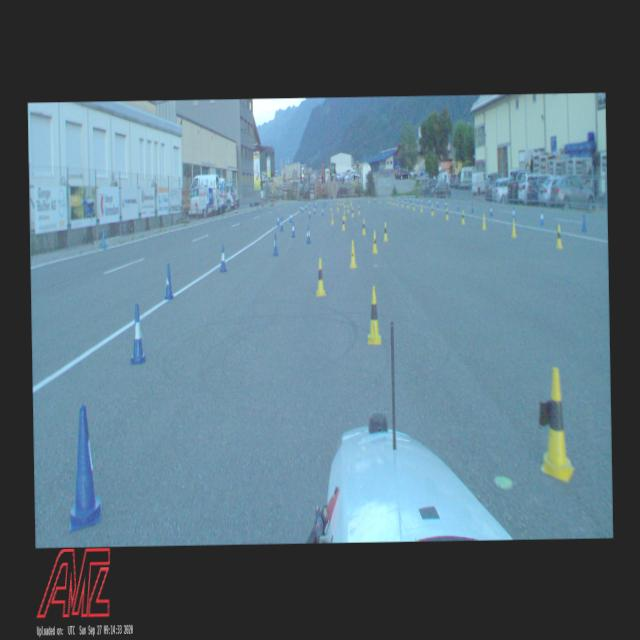blue_cone: (66, 402, 102, 532), (129, 303, 146, 364), (164, 262, 174, 300), (218, 244, 228, 272), (272, 232, 278, 256), (581, 212, 587, 232), (306, 224, 310, 244), (291, 220, 295, 238), (540, 208, 544, 226), (510, 204, 514, 222), (488, 204, 492, 216), (289, 209, 292, 223), (280, 217, 283, 231), (470, 200, 473, 213), (456, 199, 459, 212), (276, 211, 278, 227), (308, 206, 310, 218), (321, 206, 323, 217), (436, 198, 438, 208), (304, 200, 306, 210), (444, 198, 446, 208), (299, 203, 301, 212), (428, 197, 430, 206), (314, 205, 316, 214), (314, 199, 316, 207), (308, 199, 310, 207)
yellow_cone: (538, 365, 574, 483), (366, 285, 381, 345), (314, 256, 326, 298), (348, 240, 357, 268), (370, 228, 378, 254), (555, 224, 562, 248), (382, 221, 388, 242), (361, 216, 366, 236), (511, 217, 516, 237), (481, 212, 486, 230), (341, 215, 345, 231), (460, 208, 464, 224), (445, 206, 448, 220), (330, 212, 333, 225), (431, 204, 434, 216), (356, 203, 359, 214), (412, 201, 415, 211), (329, 202, 332, 211), (406, 198, 408, 210), (336, 201, 338, 212), (351, 206, 353, 217), (420, 202, 422, 213), (378, 196, 381, 203), (346, 203, 348, 213), (350, 196, 352, 206), (401, 198, 403, 207), (396, 197, 398, 206), (344, 199, 346, 208), (392, 197, 394, 206), (368, 195, 370, 203), (389, 197, 391, 204), (386, 196, 388, 203)
